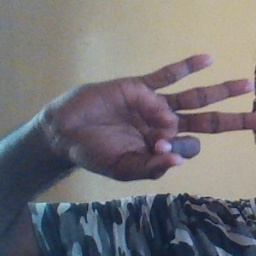K: (50, 52, 256, 183)
